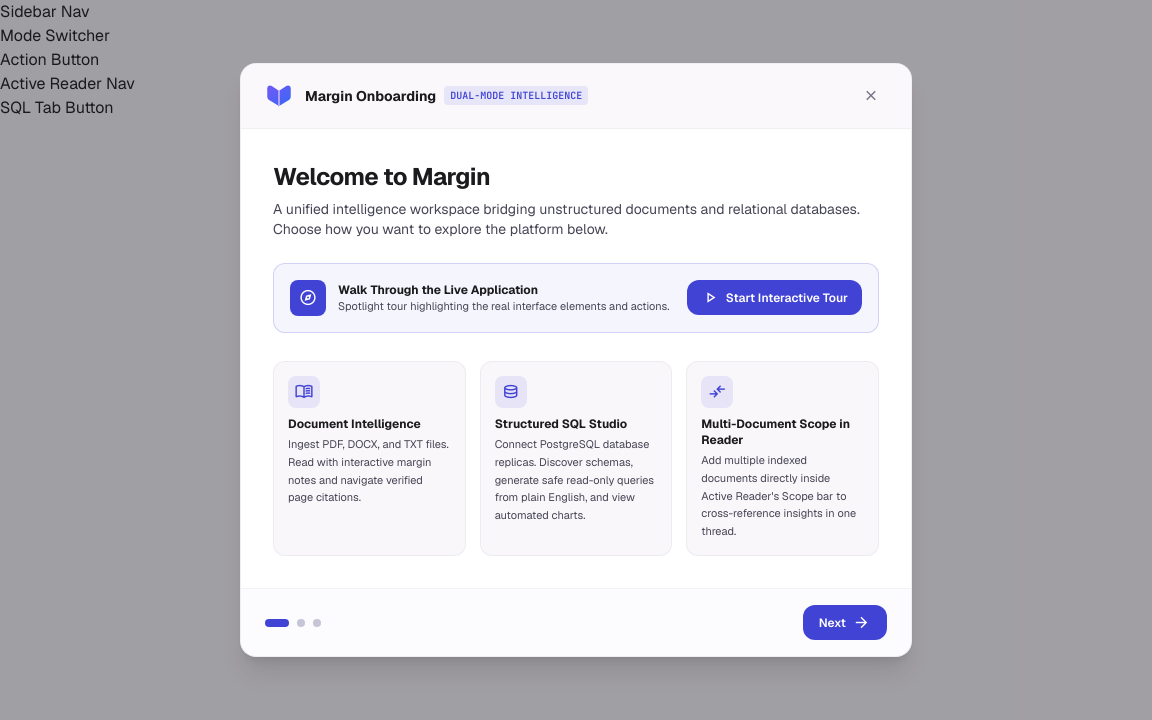
Scenario: Onboarding Workflows › allows user to trigger Upload Document directly from the Document slide of the onboarding guide modal
The width and height of the screenshot is (1152, 720).
Later steps or results of the test are not shown.
Note: Navigate to slide 2 (Document Intelligence)
Click the text "Next" at (832, 623), box [819,615,846,631]
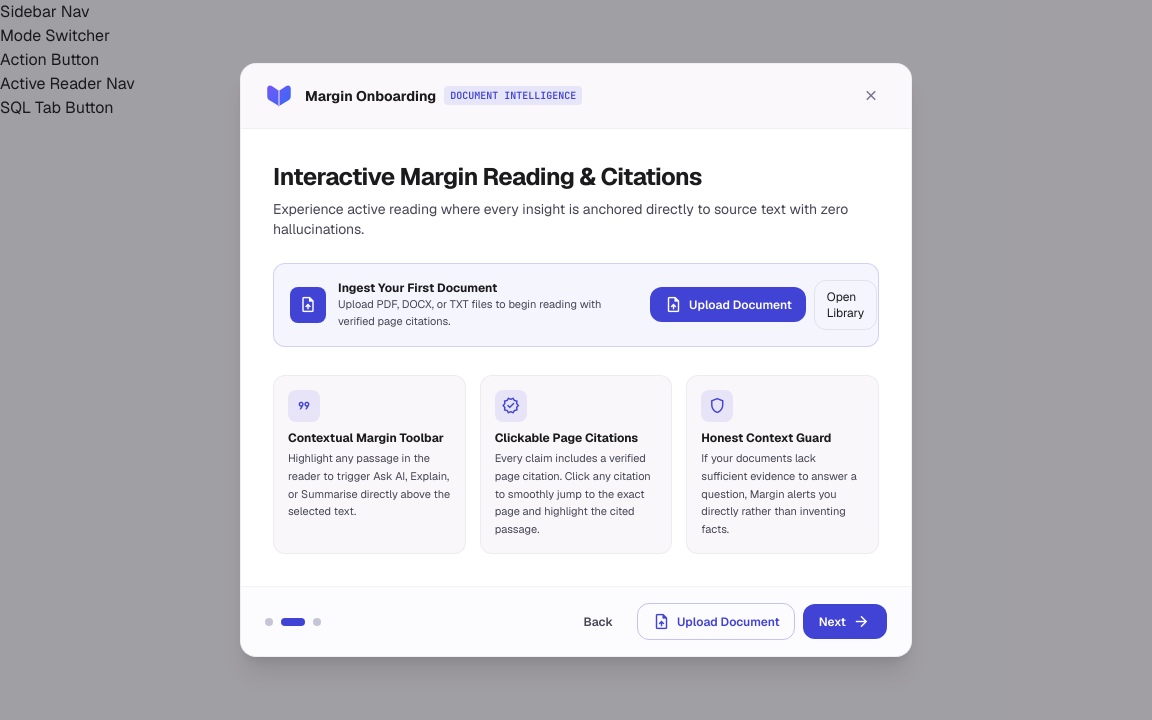
Now the heading "Interactive Margin Reading & Citations" is shown, box [273,161,702,192]
Now the button "Upload Document" next to "Open Library" is shown, box [650,287,806,322]
